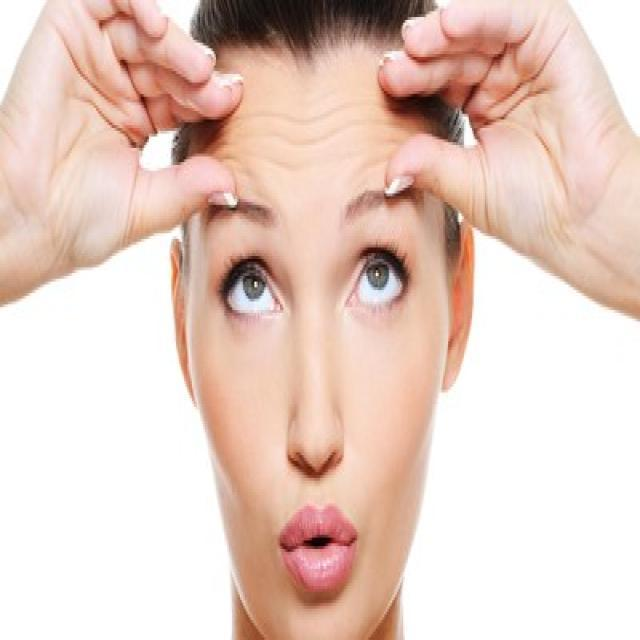dry: (235, 60, 396, 184)
